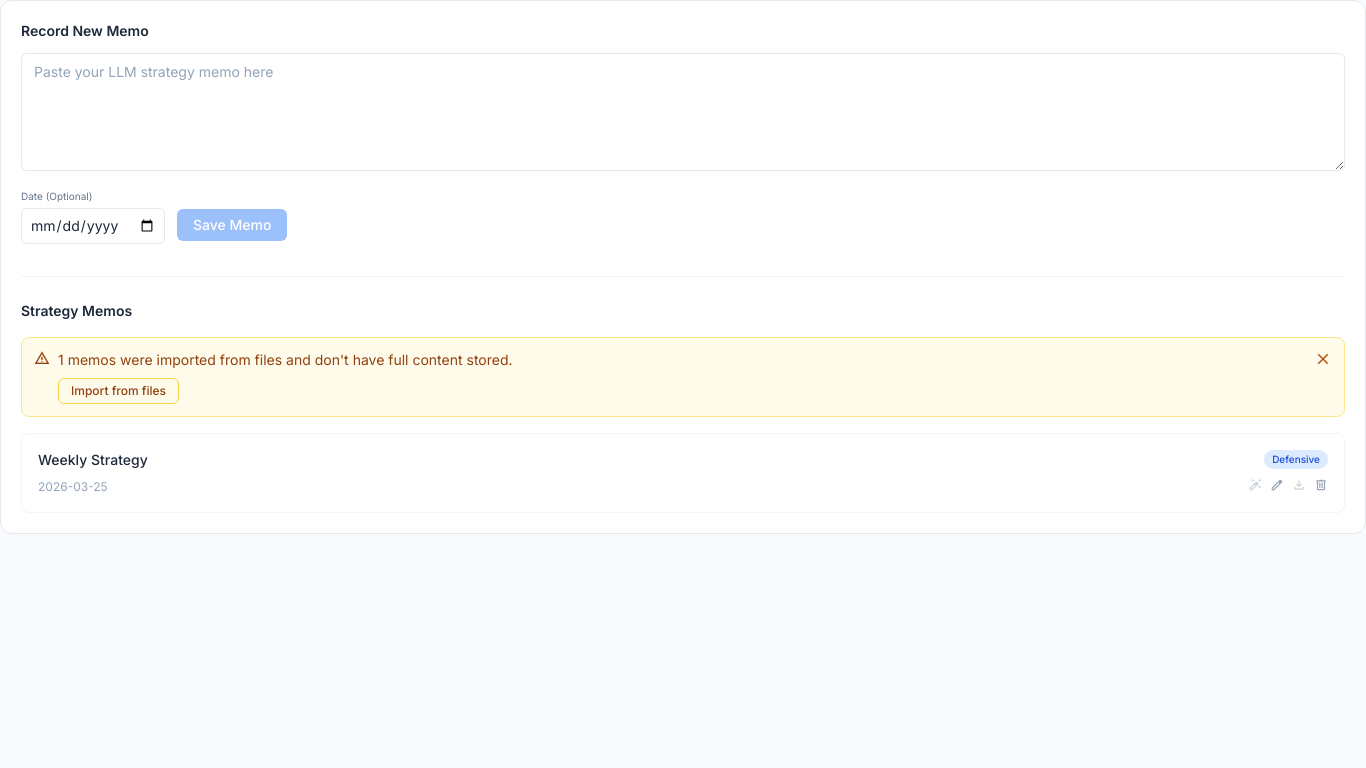
Test: MemoManager › shows fallback copy for imported memos without stored content
Click the text "Weekly Strategy" at (93, 460), box [38,451,148,468]
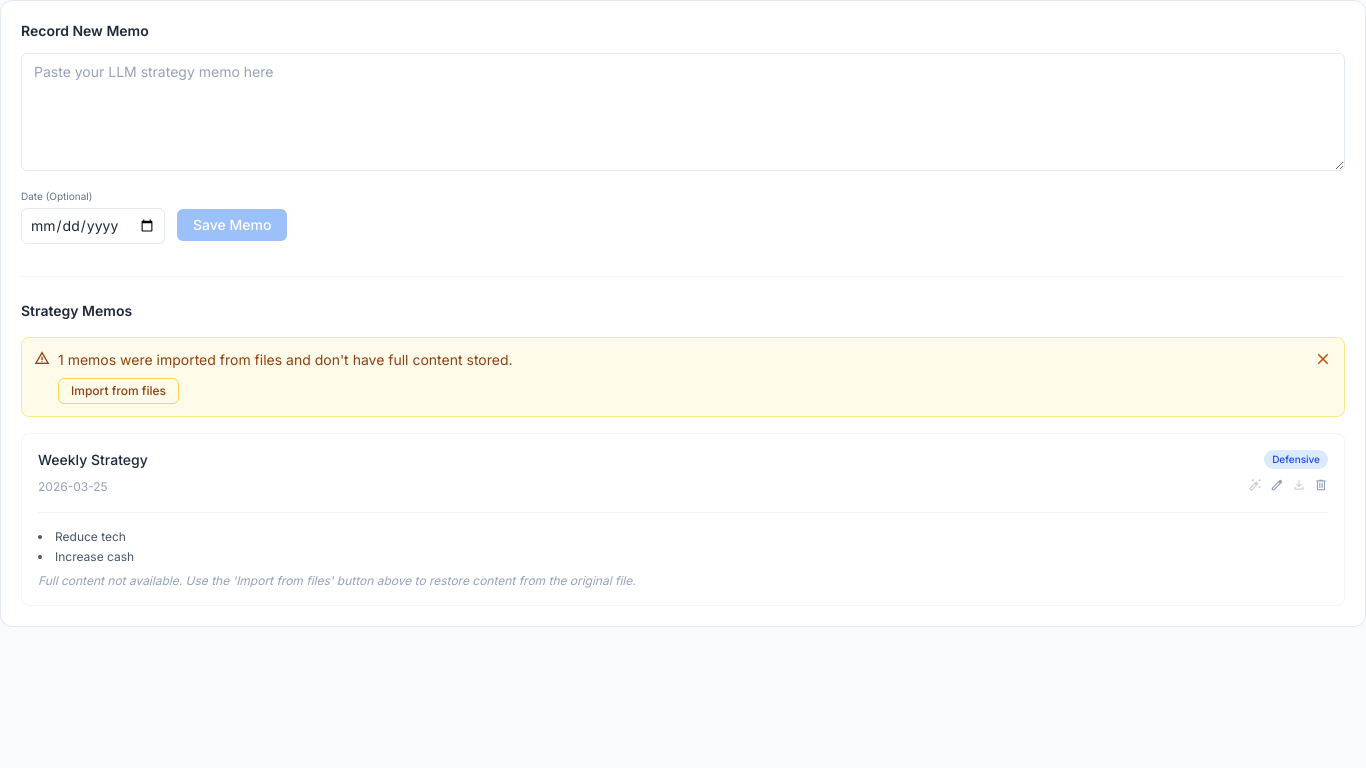
Expected: the text "Full content not available" is shown, [38,573,636,588]
